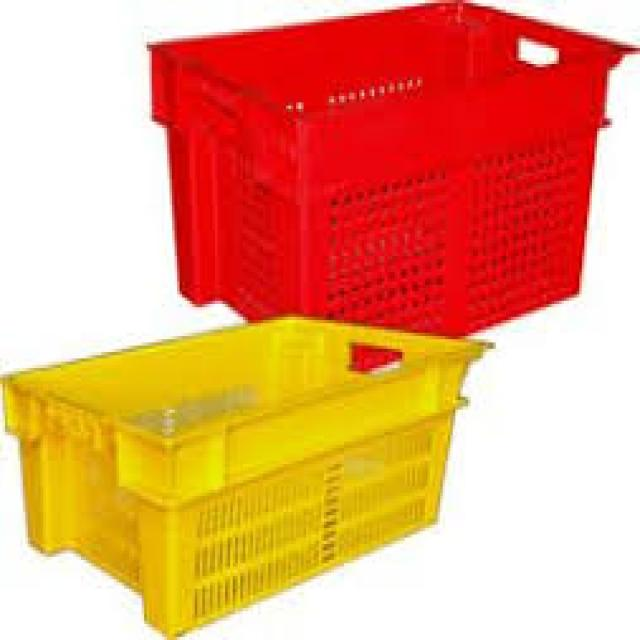basket: (152, 3, 639, 334)
